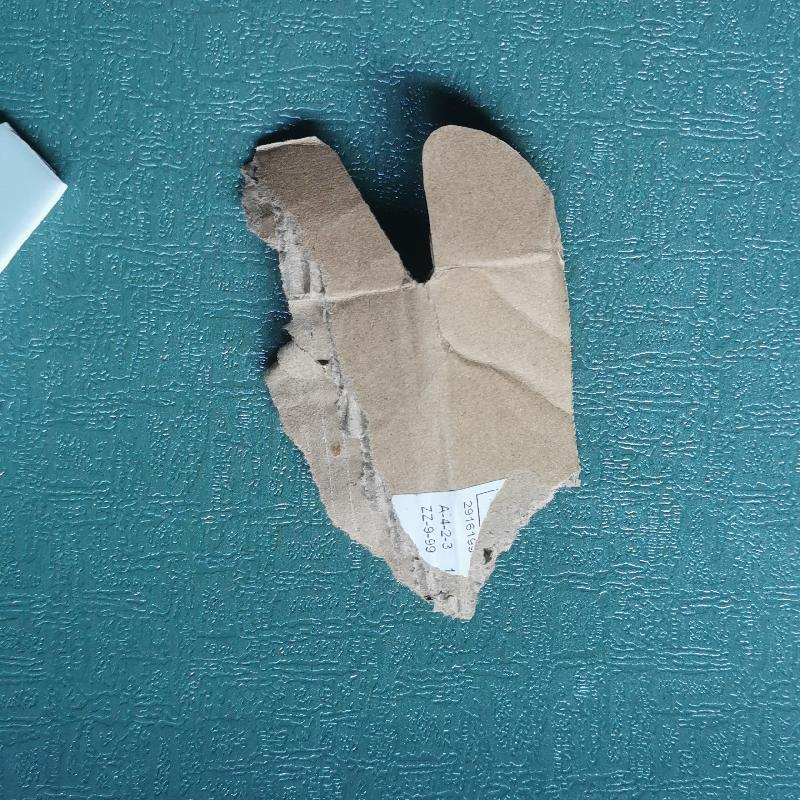boxes: (229, 127, 620, 629)
